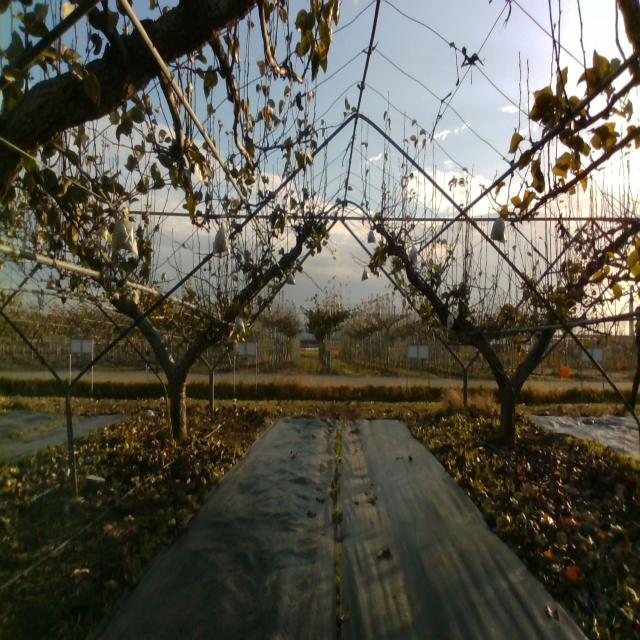pearbags: (110, 208, 140, 260), (213, 223, 230, 254), (490, 215, 507, 244), (232, 315, 245, 334)
